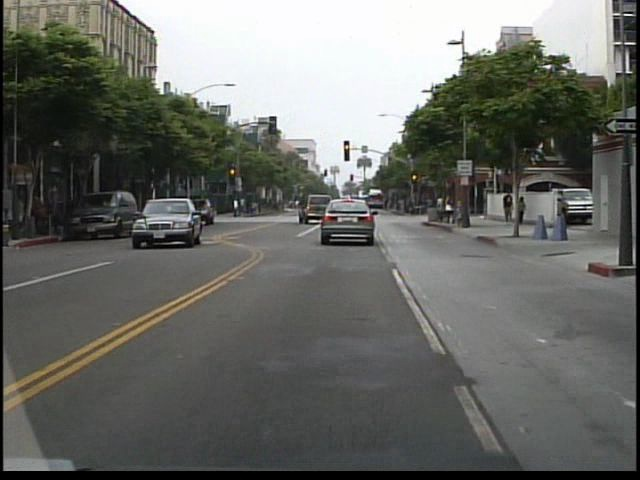person: (434, 189, 453, 224), (501, 186, 516, 226), (518, 189, 532, 226), (233, 193, 243, 219)
